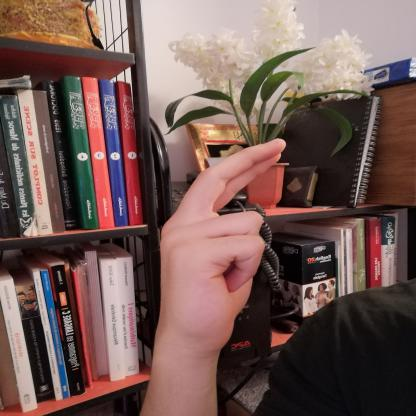ZAY: (138, 128, 300, 365)
